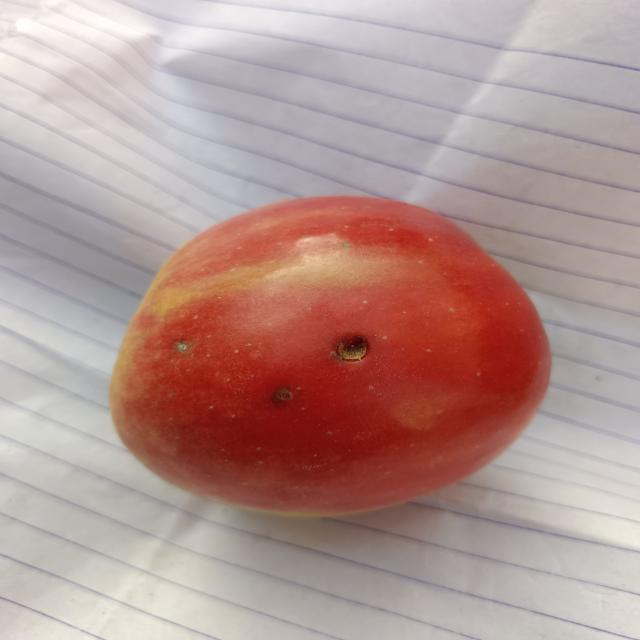Fresh Apple: (105, 182, 556, 508)
